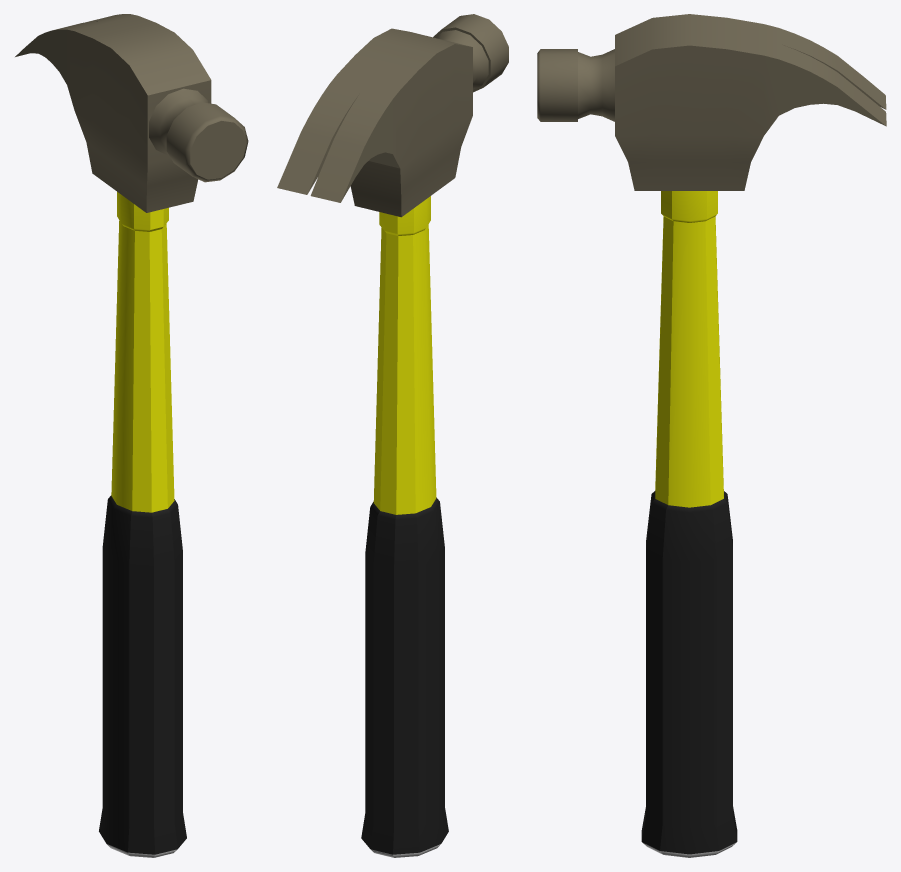
Rendered from hammerTexture.obj.
3 views of the same model, side by side, from view 1: azimuth 30°, elevation 25°; view 2: azimuth 150°, elevation 25°; view 3: azimuth 270°, elevation 25° (orthographic). The views are drawn at different scales.
Visible parts, largest first — view 1: handle, hammerHead; view 2: handle, hammerHead; view 3: handle, hammerHead.
Part boxes in pixels (x1,y1,x2,y2): handle: (99, 192, 186, 857); hammerHead: (15, 14, 248, 212); handle: (361, 196, 448, 857); hammerHead: (277, 14, 508, 217); handle: (641, 191, 737, 857); hammerHead: (537, 14, 886, 190).
Bounding box in the file's own units: 0.9667 × 10.1 × 3.94.
